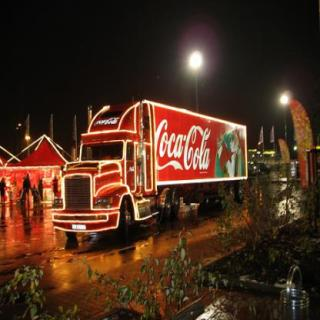Normal_vehicle: (56, 97, 254, 238)
